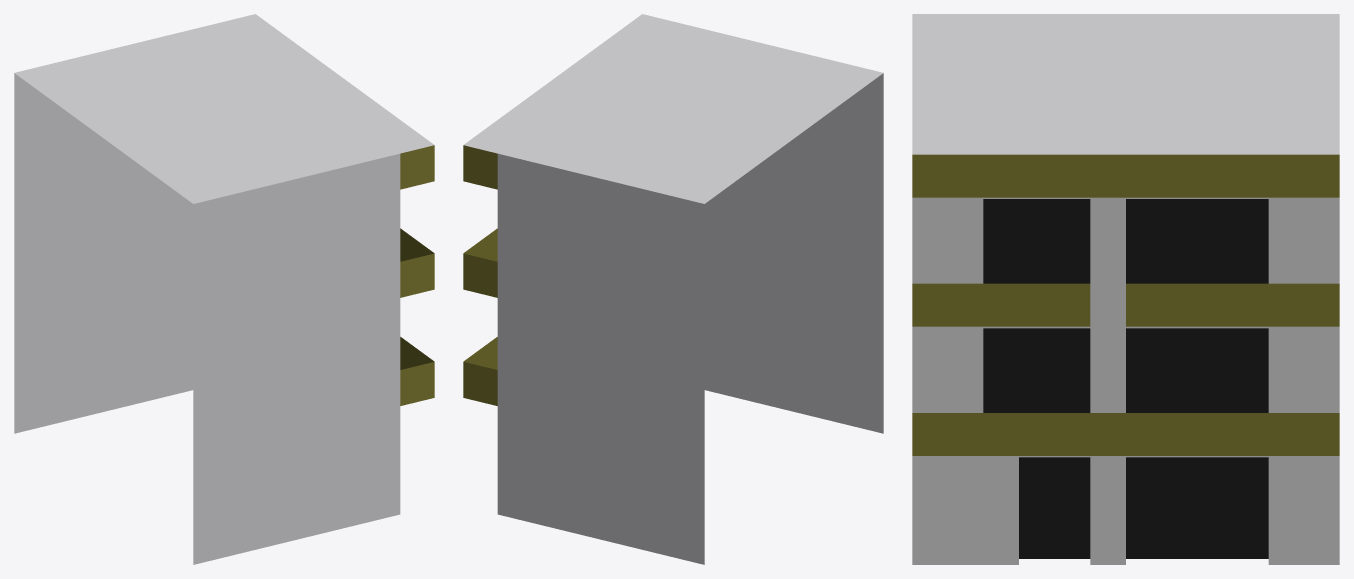
File: Edificio-4.fbx
3 views of the same model, side by side, from view 1: azimuth 30°, elevation 25°; view 2: azimuth 150°, elevation 25°; view 3: azimuth 270°, elevation 25° (orthographic). The views are drawn at different scales.
Visible parts, largest first — view 1: Plane; view 2: Plane; view 3: Plane.
Part boxes in pixels (x1=…): Plane: x1=14, y1=14, x2=434, y2=564; Plane: x1=463, y1=14, x2=883, y2=564; Plane: x1=912, y1=14, x2=1339, y2=564.
Size of the model in its own units: 700 by 1000 by 900.
